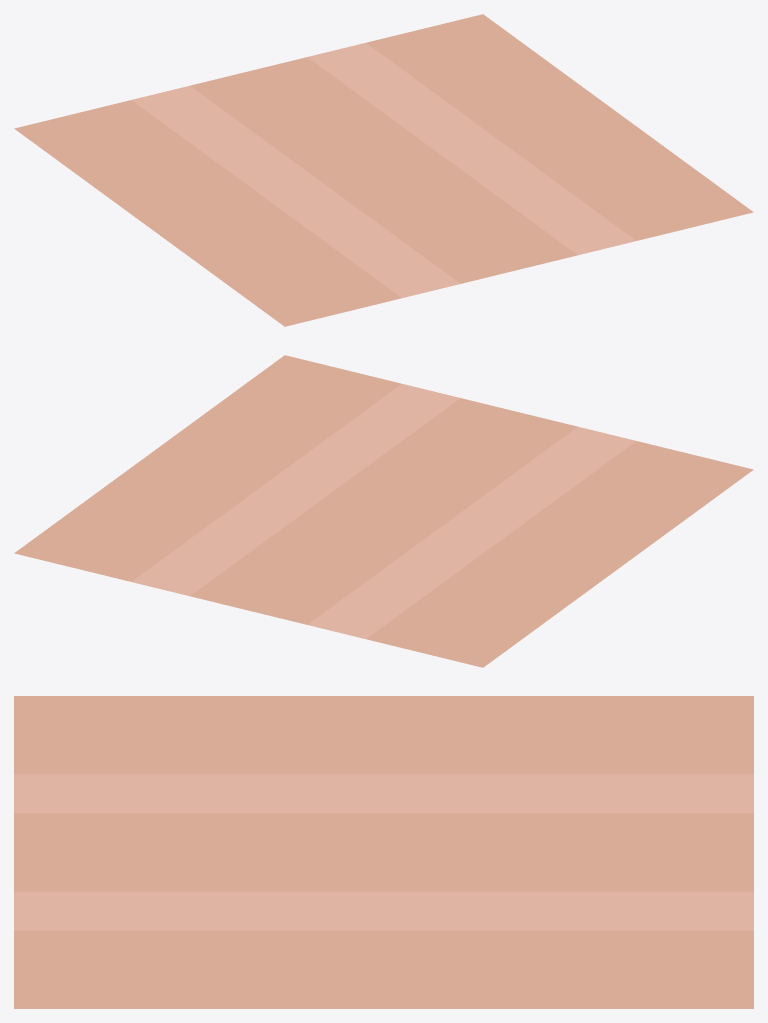
File: kenney-space-terrain-road-straight.glb
3 renders of one model, top to bottom at view 1: azimuth 30°, elevation 25°; view 2: azimuth 150°, elevation 25°; view 3: azimuth 270°, elevation 25°, orthographic. The views are drawn at different scales.
Parts seen in each view (by area): view 1: terrain_roadStraight; view 2: terrain_roadStraight; view 3: terrain_roadStraight.
Boxes of the visible parts, left/top/right/bottom form: terrain_roadStraight: left=14, top=14, right=753, bottom=326; terrain_roadStraight: left=14, top=355, right=753, bottom=667; terrain_roadStraight: left=14, top=696, right=753, bottom=1008.
Bounding box in the file's own units: 1 × 0 × 1.
